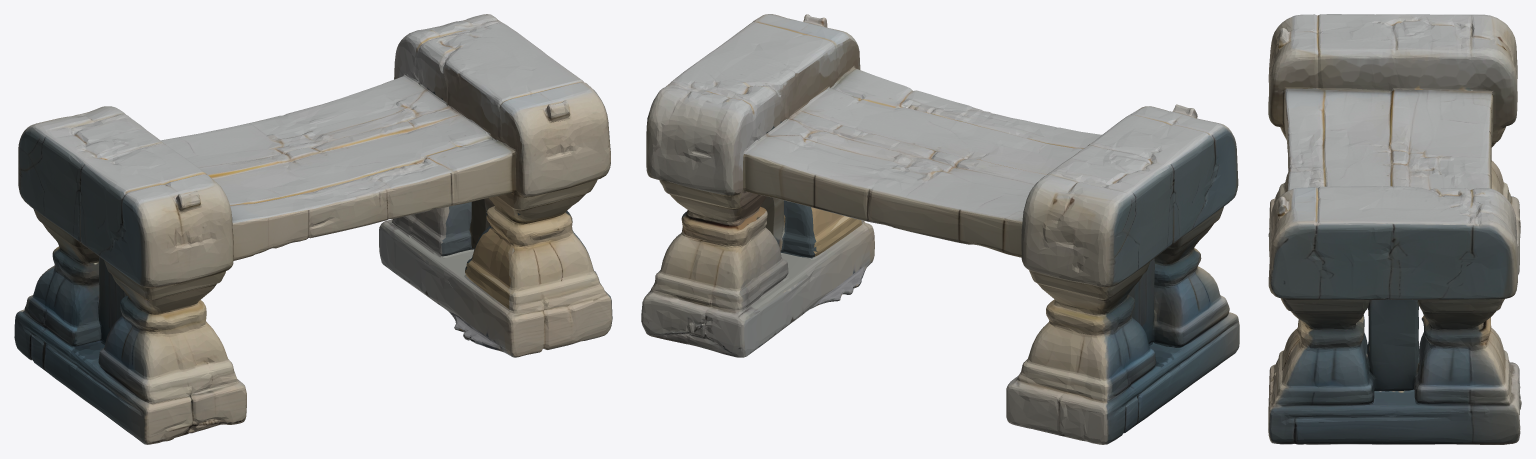
Rendered from lion-paw-stone-bench-optimized.glb.
The picture shows the model from 3 angles, left to right: view 1: azimuth 30°, elevation 25°; view 2: azimuth 150°, elevation 25°; view 3: azimuth 270°, elevation 25°; orthographic projection. The views are drawn at different scales.
Visible parts, largest first — view 1: 6a3798ae-6961-49ac-88b6-23ac81d3c839_texturing.obj; view 2: 6a3798ae-6961-49ac-88b6-23ac81d3c839_texturing.obj; view 3: 6a3798ae-6961-49ac-88b6-23ac81d3c839_texturing.obj.
Boxes of the visible parts, box(x1,y1,x2,y2) form: 6a3798ae-6961-49ac-88b6-23ac81d3c839_texturing.obj: box(14, 14, 612, 444); 6a3798ae-6961-49ac-88b6-23ac81d3c839_texturing.obj: box(641, 14, 1239, 444); 6a3798ae-6961-49ac-88b6-23ac81d3c839_texturing.obj: box(1268, 14, 1521, 444).
Size of the model in its own units: 2.4 by 1.19 by 1.2.
1 material, 1 textured.
